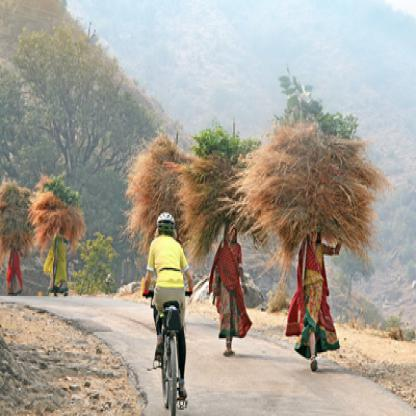Helmet: (156, 211, 176, 238)
